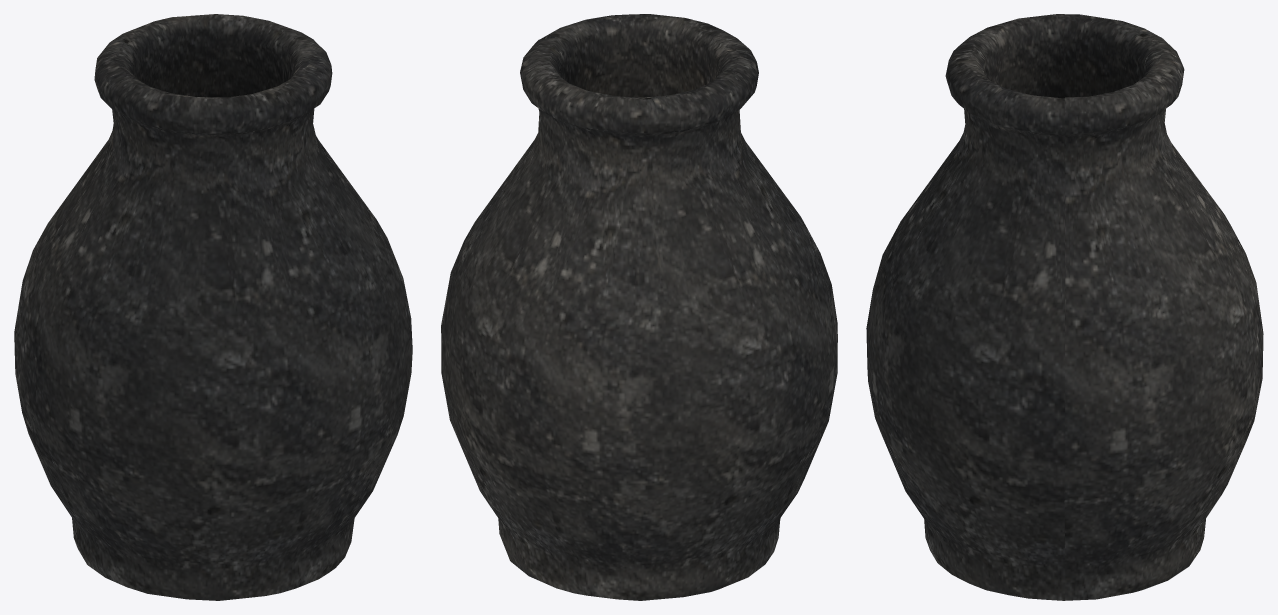
File: boop-vase-small-black-baked.glb
3 views of the same model, side by side, from view 1: azimuth 30°, elevation 25°; view 2: azimuth 150°, elevation 25°; view 3: azimuth 270°, elevation 25° (orthographic).
Visible parts, largest first — view 1: vase-small-black; view 2: vase-small-black; view 3: vase-small-black.
Part boxes in pixels (x1,y1,x2,y2): vase-small-black: [14, 14, 412, 600]; vase-small-black: [441, 14, 837, 600]; vase-small-black: [866, 14, 1263, 600].
Bounding box in the file's own units: 0.0167 × 0.0226 × 0.0166.
1 material, 1 textured.
